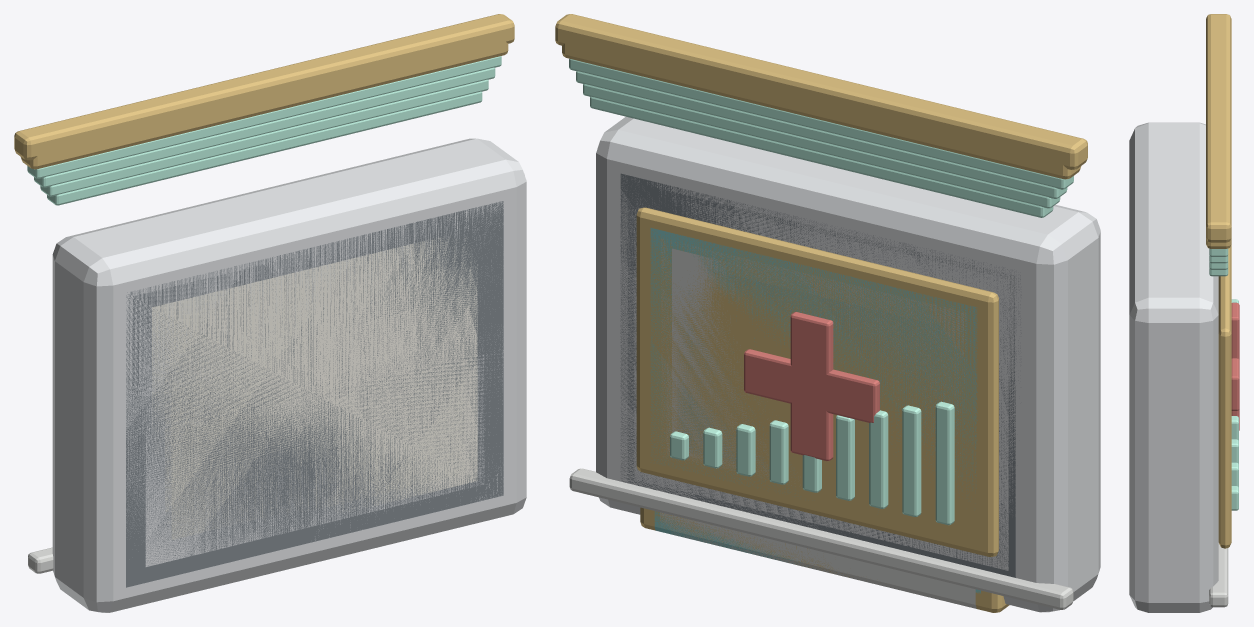
Rendered from Gear01.fbx.
The picture shows the model from 3 angles, left to right: view 1: azimuth 30°, elevation 25°; view 2: azimuth 150°, elevation 25°; view 3: azimuth 270°, elevation 25°; orthographic projection. The views are drawn at different scales.
Parts seen in each view (by area): view 1: Gear01_V10_Platinum, Gear01_V8_Graphite, Gear01_V4_Linen, Gear01_V7_Graphite, Gear01_V10_Gold, Gear01_V9_Platinum, Gear01_V5_Platinum, Gear01_V3_Linen, Gear01_V1_Ivory, Gear01_V2_Ivory, Gear01_V9_Gold, Gear01_V9_Glow (+3 smaller); view 2: Gear01_V10_Platinum, Gear01_V10_Gold, Gear01_V9_Gold, Gear01_V8_Aqua, Gear01_V10_Glow, Gear01_V7_Graphite, Gear01_V4_Chrome, Gear01_V1_Crimson, Gear01_V6_Platinum, Gear01_V7_Chrome, Gear01_V9_Glow, Gear01_V7_Glow (+12 smaller); view 3: Gear01_V10_Platinum, Gear01_V10_Gold, Gear01_V1_Crimson, Gear01_V10_Glow, Gear01_V10_Chrome, Gear01_V6_Chrome, Gear01_V9_Gold.
Boxes of the visible parts, left/top/right/bottom form: Gear01_V10_Platinum: left=52, top=138, right=526, bottom=612; Gear01_V8_Graphite: left=126, top=201, right=503, bottom=587; Gear01_V4_Linen: left=152, top=235, right=477, bottom=512; Gear01_V7_Graphite: left=132, top=242, right=497, bottom=537; Gear01_V10_Gold: left=14, top=14, right=514, bottom=160; Gear01_V9_Platinum: left=119, top=194, right=510, bottom=594; Gear01_V5_Platinum: left=145, top=278, right=484, bottom=566; Gear01_V3_Linen: left=158, top=238, right=471, bottom=506; Gear01_V1_Ivory: left=171, top=276, right=457, bottom=539; Gear01_V2_Ivory: left=165, top=274, right=464, bottom=524; Gear01_V9_Gold: left=21, top=40, right=508, bottom=169; Gear01_V9_Glow: left=34, top=67, right=495, bottom=187; Gear01_V10_Platinum: left=596, top=116, right=1100, bottom=612; Gear01_V10_Gold: left=555, top=14, right=1087, bottom=612; Gear01_V9_Gold: left=562, top=42, right=1081, bottom=605; Gear01_V8_Aqua: left=650, top=228, right=980, bottom=593; Gear01_V10_Glow: left=569, top=58, right=1073, bottom=525; Gear01_V7_Graphite: left=627, top=181, right=1015, bottom=577; Gear01_V4_Chrome: left=613, top=248, right=1023, bottom=599; Gear01_V1_Crimson: left=744, top=312, right=879, bottom=461; Gear01_V6_Platinum: left=634, top=194, right=1008, bottom=570; Gear01_V7_Chrome: left=592, top=306, right=1046, bottom=608; Gear01_V9_Glow: left=576, top=71, right=1067, bottom=198; Gear01_V7_Glow: left=590, top=96, right=1053, bottom=217; Gear01_V10_Platinum: left=1129, top=122, right=1218, bottom=612; Gear01_V10_Gold: left=1206, top=14, right=1231, bottom=548; Gear01_V1_Crimson: left=1231, top=302, right=1239, bottom=430; Gear01_V10_Glow: left=1209, top=248, right=1238, bottom=510; Gear01_V10_Chrome: left=1209, top=579, right=1228, bottom=607; Gear01_V6_Chrome: left=1218, top=543, right=1227, bottom=583; Gear01_V9_Gold: left=1206, top=238, right=1231, bottom=248.
Size of the model in its own units: 78.72 by 70.65 by 17.25.
